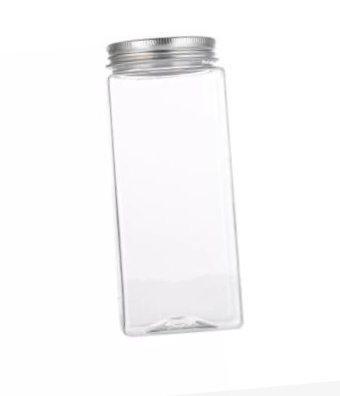plastic: (103, 34, 250, 333)
